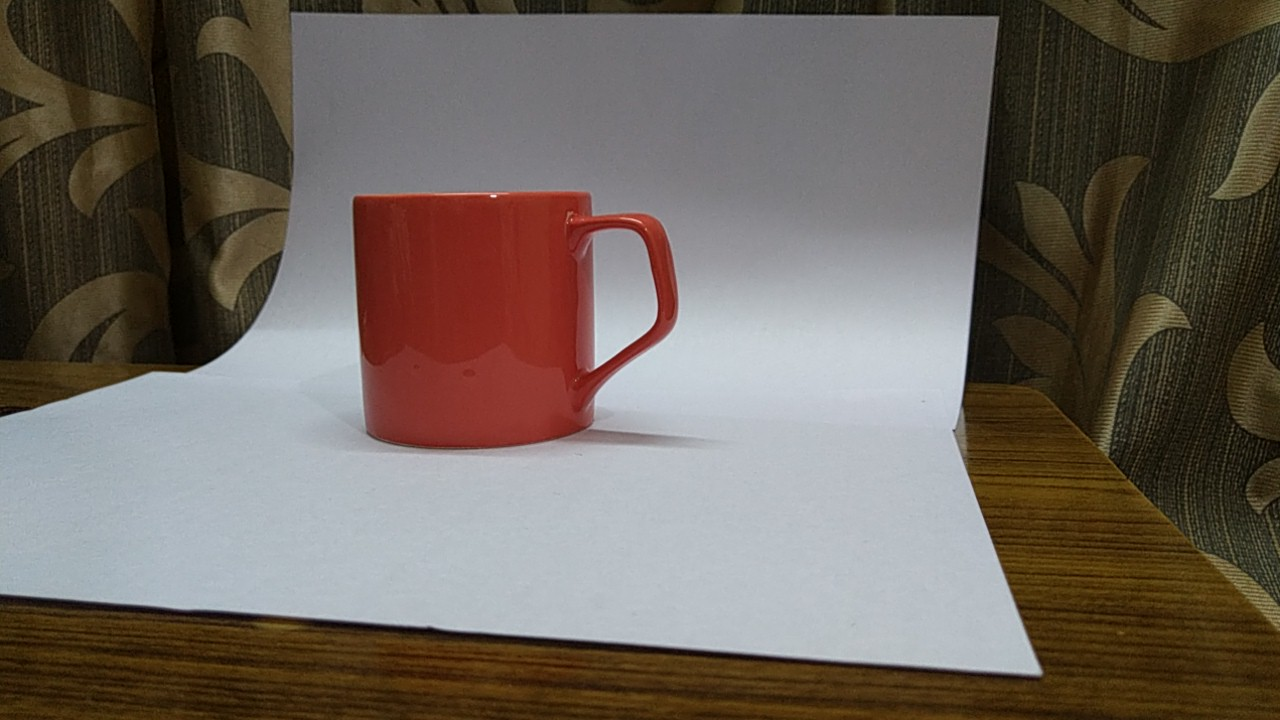cup: (344, 167, 700, 468)
